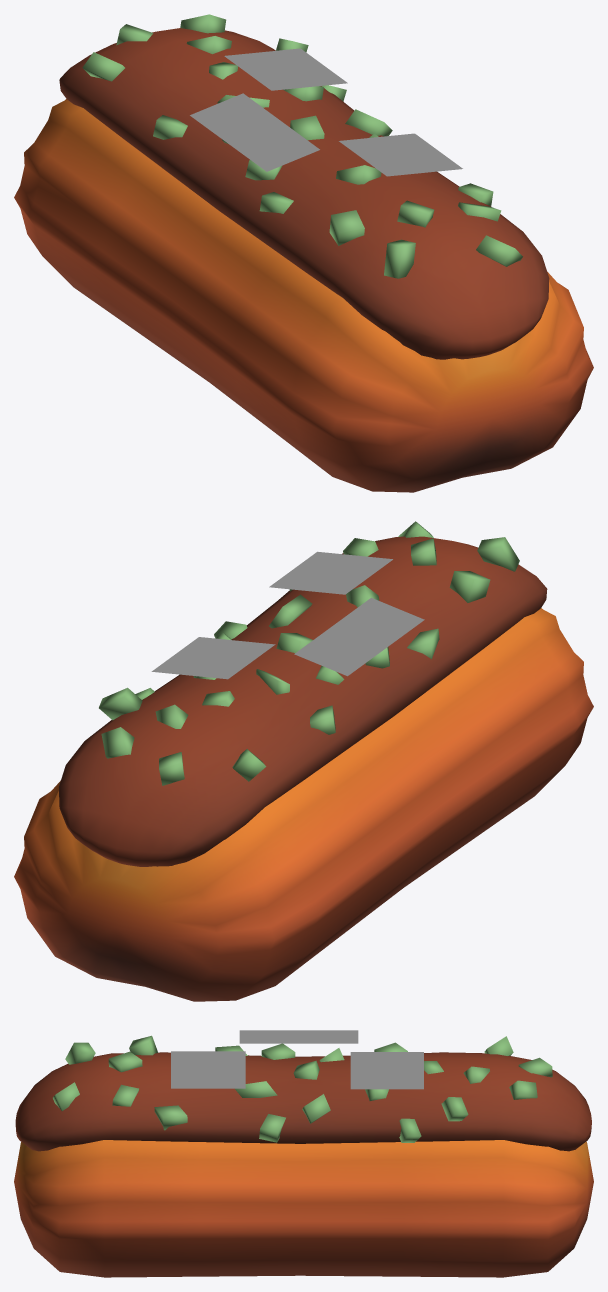
The model's file is eclair_orange.fbx.
3 renders of one model, top to bottom at view 1: azimuth 30°, elevation 25°; view 2: azimuth 150°, elevation 25°; view 3: azimuth 270°, elevation 25°, orthographic. The views are drawn at different scales.
Visible parts, largest first — view 1: eclair, chocolate_dark, chips, smile; view 2: eclair, chocolate_dark, chips, smile; view 3: eclair, chocolate_dark, chips, smile.
Part boxes in pixels (bbox=[...]): eclair: bbox=[14, 99, 593, 492]; chocolate_dark: bbox=[59, 28, 549, 359]; chips: bbox=[82, 14, 522, 278]; smile: bbox=[190, 48, 462, 176]; eclair: bbox=[14, 608, 593, 1001]; chocolate_dark: bbox=[59, 536, 547, 866]; chips: bbox=[99, 521, 519, 785]; smile: bbox=[151, 551, 424, 679]; eclair: bbox=[14, 1140, 593, 1277]; chocolate_dark: bbox=[15, 1052, 591, 1151]; chips: bbox=[53, 1035, 552, 1142]; smile: bbox=[171, 1030, 423, 1089].
Size of the model in its own units: 23.17 by 19.56 by 51.83.
